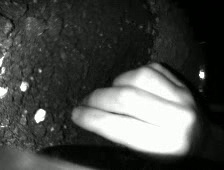corn: (31, 106, 51, 125), (18, 79, 31, 94)
